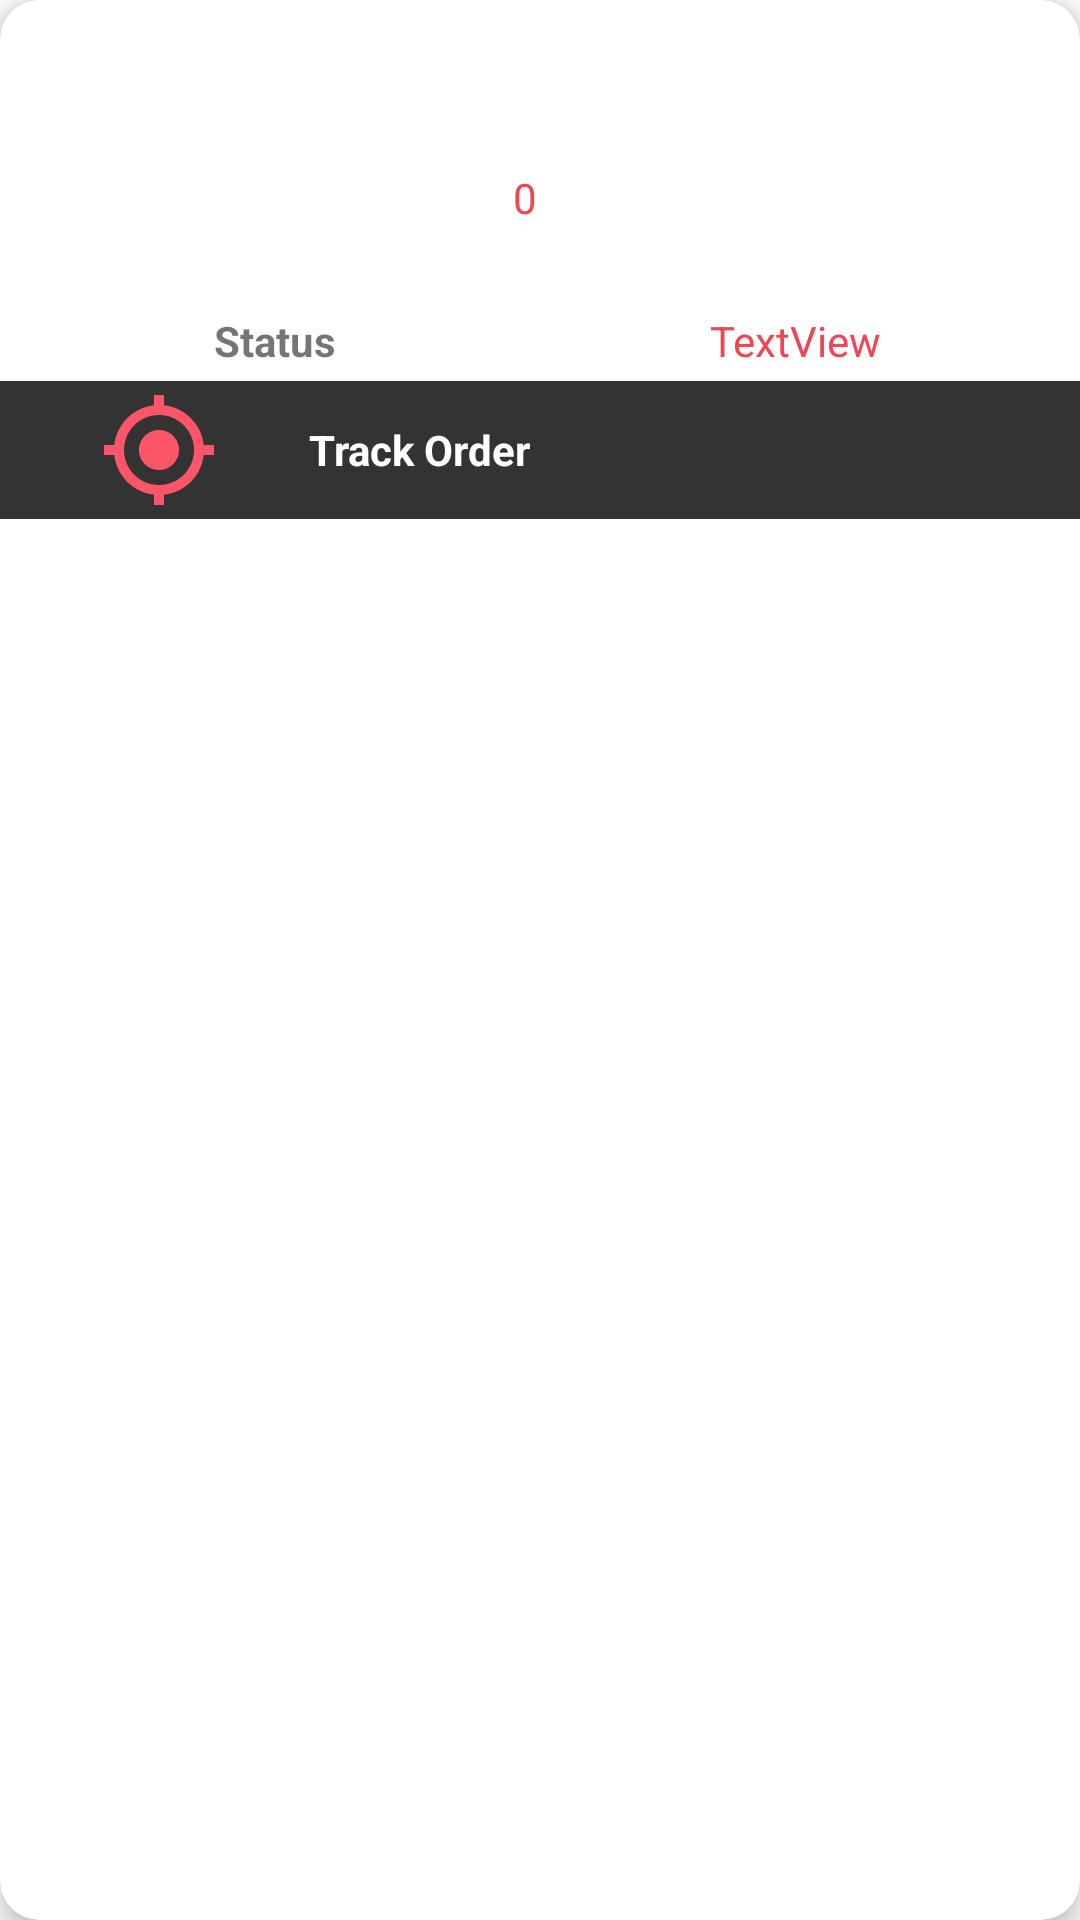

Icons on this 1080w x 1920h Android screen, each with its box as (x1, y1, x2, y2):
gps fixed: (104, 395, 214, 505)
